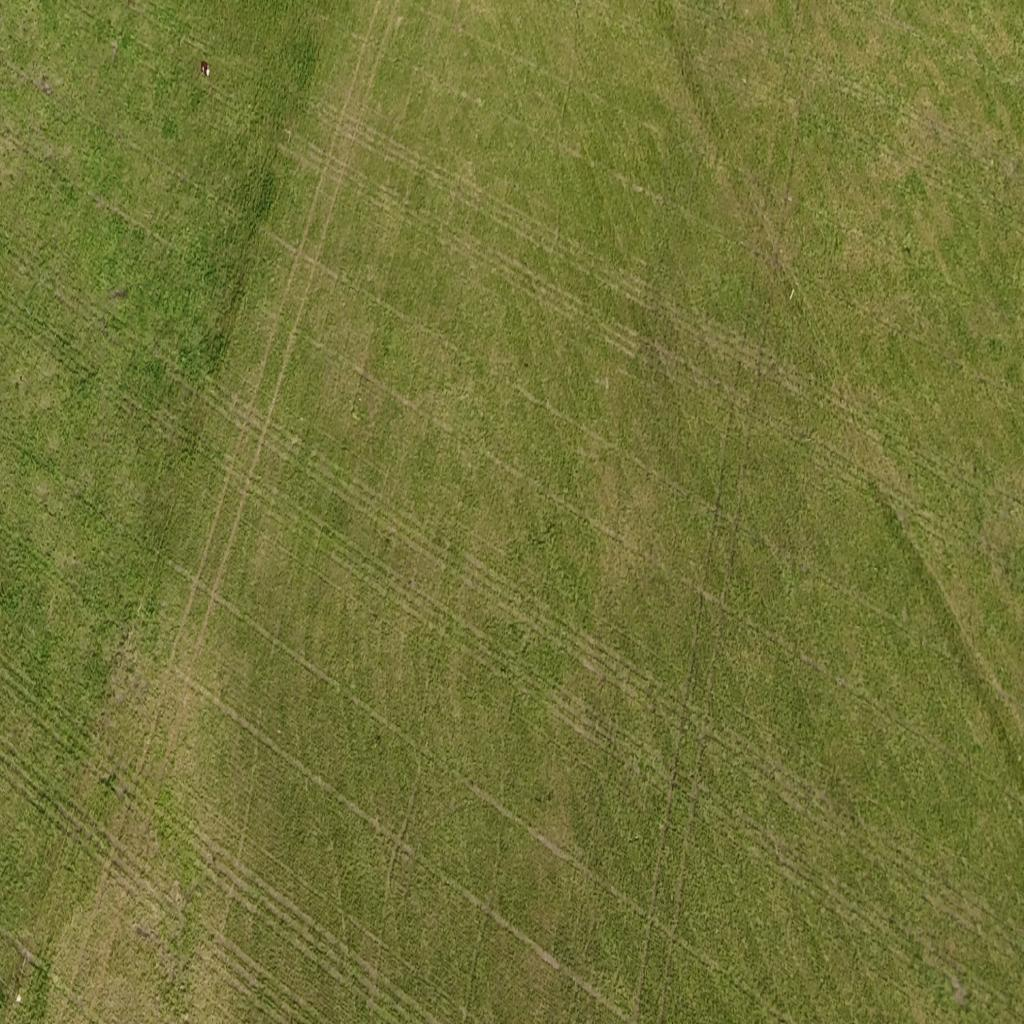cow: (200, 60, 212, 80)
